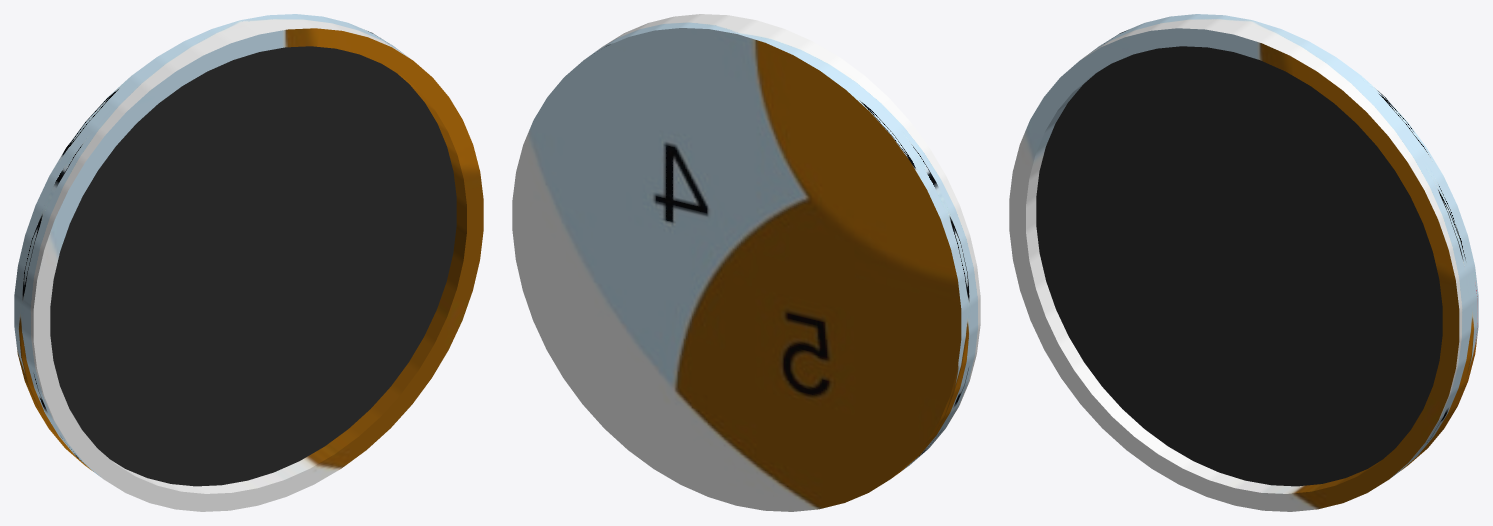
Rendered from Clock (1).fbx.
The picture shows the model from 3 angles, left to right: view 1: azimuth 30°, elevation 25°; view 2: azimuth 150°, elevation 25°; view 3: azimuth 330°, elevation 25°; orthographic projection.
Parts seen in each view (by area): view 1: Cylinder; view 2: Cylinder; view 3: Cylinder.
Boxes of the visible parts, x1,y1,x2,y2 form: Cylinder: [14, 14, 483, 511]; Cylinder: [512, 14, 980, 511]; Cylinder: [1009, 14, 1478, 511].
Size of the model in its own units: 200 by 200 by 15.73.
Materials: 2 (1 with a texture image).
